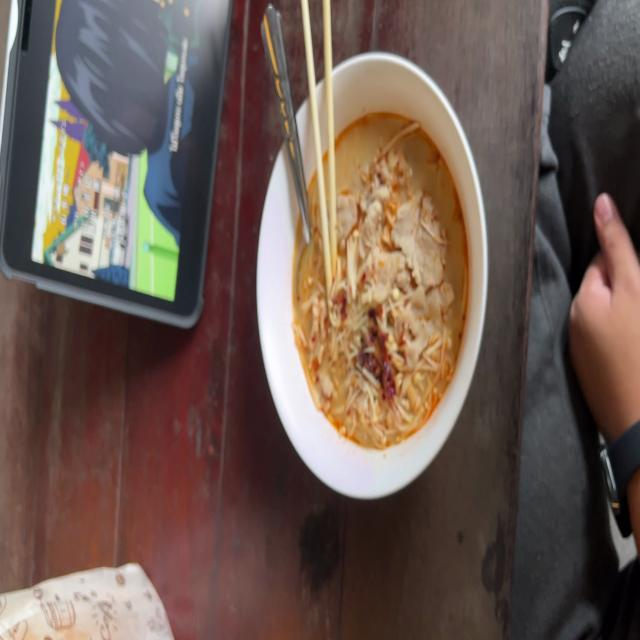noodle: (268, 56, 495, 494)
